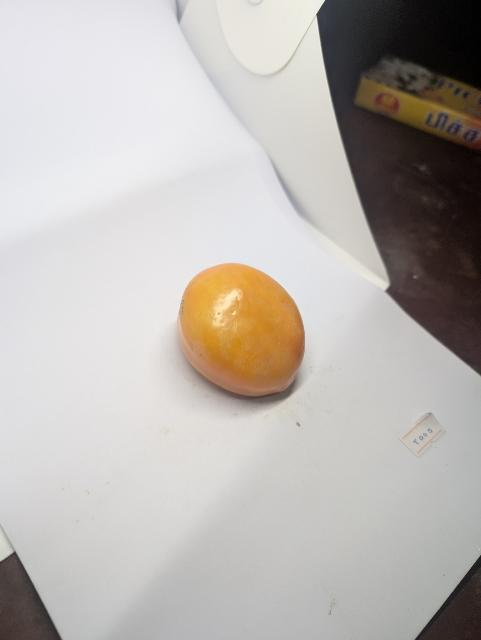turning: (166, 259, 318, 400)
